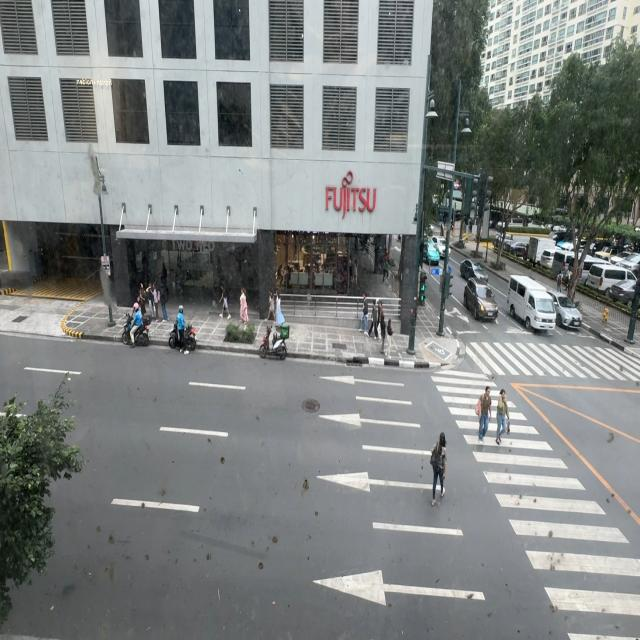crossing: (494, 388, 509, 444), (478, 386, 492, 443)
jaywalking: (430, 432, 447, 507)
pedestrain: (376, 300, 386, 353), (218, 282, 231, 321), (368, 298, 380, 340), (274, 291, 286, 328), (239, 288, 249, 325), (360, 294, 369, 334), (266, 288, 276, 322), (556, 272, 562, 292)
